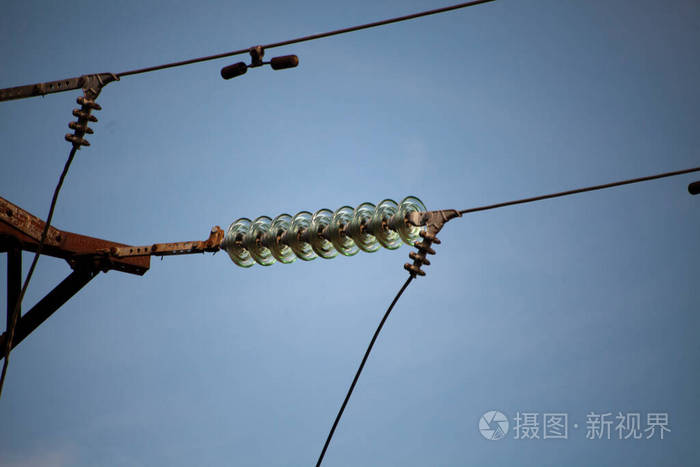insulator: (228, 196, 428, 268)
